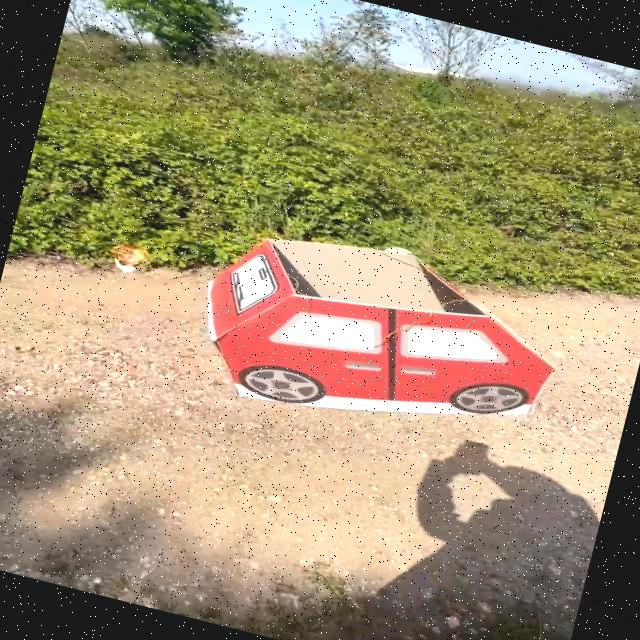red_car: (162, 197, 598, 486)
